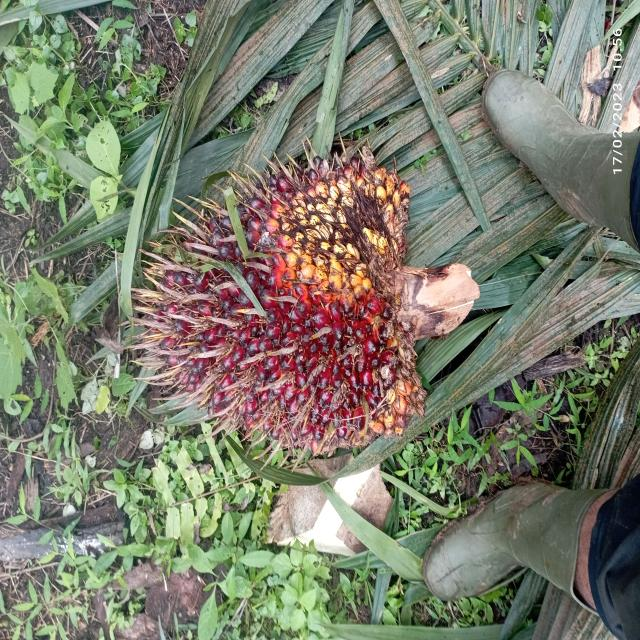fraksi 1: (120, 115, 432, 512)
